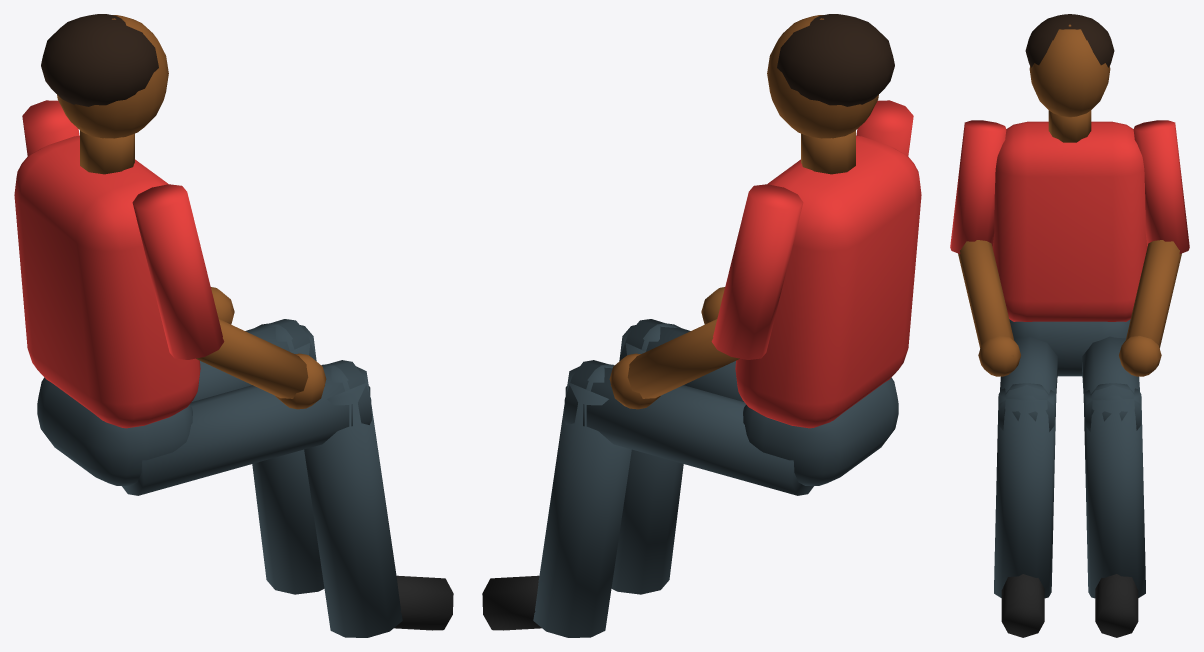
File: SpectatorB.glb
3 renders of one model, left to right at view 1: azimuth 30°, elevation 25°; view 2: azimuth 150°, elevation 25°; view 3: azimuth 270°, elevation 25°, orthographic. The views are drawn at different scales.
Visible parts, largest first — view 1: SpectatorB; view 2: SpectatorB; view 3: SpectatorB.
Boxes of the visible parts, box(x1,y1,x2,y2) form: SpectatorB: box(14, 14, 453, 637); SpectatorB: box(482, 14, 921, 637); SpectatorB: box(950, 14, 1189, 637).
Size of the model in its own units: 0.8318 by 1.43 by 0.6142.
